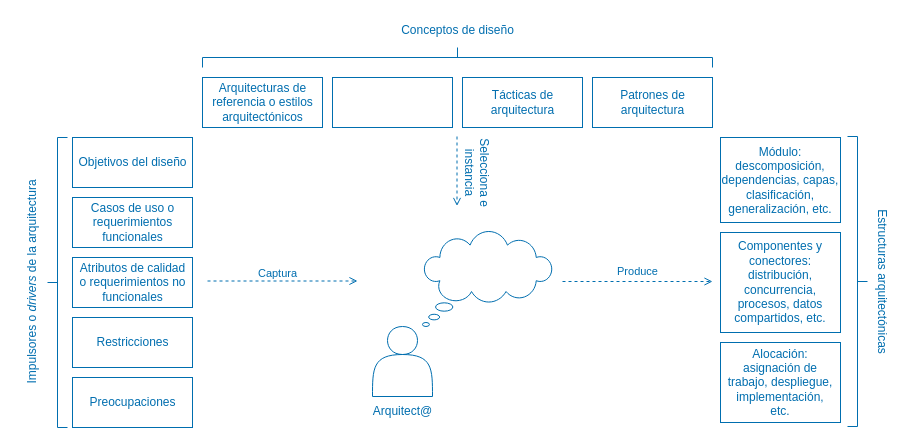
This 914x445 diagram has some shape labels left out. Each missing label, with the box of its shape:
Componentes desarrollados por terceros: (332, 76, 452, 128)
Decisiones de diseño candidatas: (422, 230, 552, 326)
